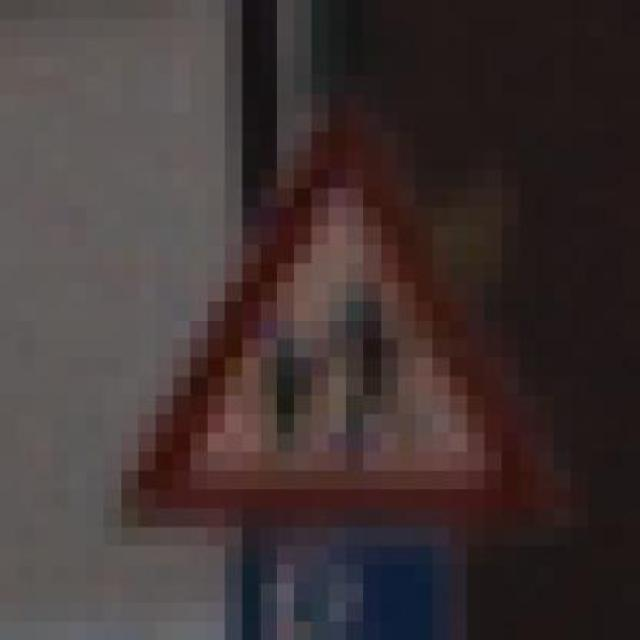Beware of children: (86, 94, 571, 546)
